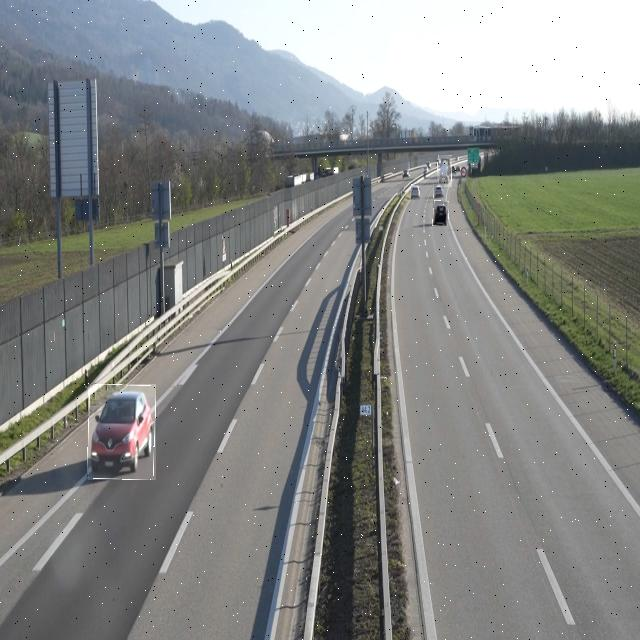Car: (88, 384, 156, 480), (433, 201, 448, 226), (412, 184, 424, 200), (433, 184, 444, 198)
Truck: (438, 155, 452, 187)
